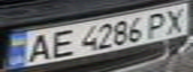2: (93, 20, 118, 50)
4: (75, 23, 100, 53)
6: (127, 14, 151, 43)
8: (112, 17, 133, 46)
A: (18, 30, 57, 63)
E: (42, 27, 78, 60)
P: (142, 10, 175, 38)
X: (157, 5, 193, 35)
